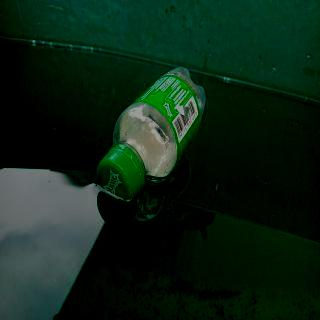bottle: (96, 63, 208, 204)
